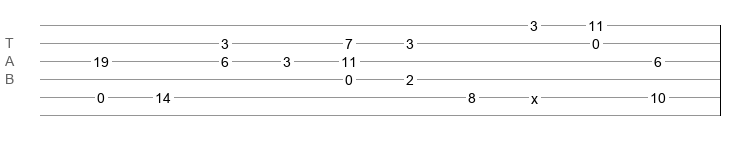0: (97, 90, 105, 100), (345, 72, 353, 82), (592, 36, 600, 46)
10: (650, 90, 666, 100)
11: (341, 54, 357, 64), (588, 18, 604, 28)
14: (155, 90, 171, 100)
19: (93, 54, 109, 64)
2: (406, 72, 414, 82)
3: (221, 36, 229, 46), (283, 54, 291, 64), (406, 36, 414, 46), (530, 18, 538, 28)
6: (221, 54, 229, 64), (654, 54, 662, 64)
7: (345, 36, 353, 46)
8: (468, 90, 476, 100)
x: (531, 91, 538, 99)
